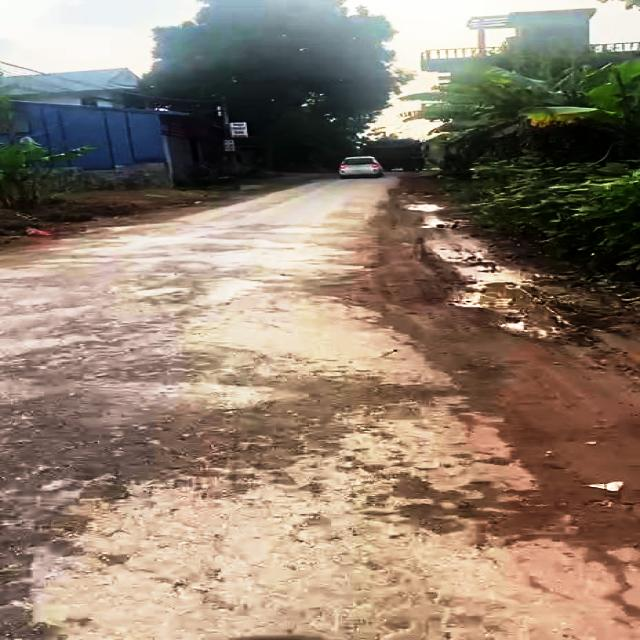pothole: (443, 278, 583, 348), (400, 199, 447, 212)
